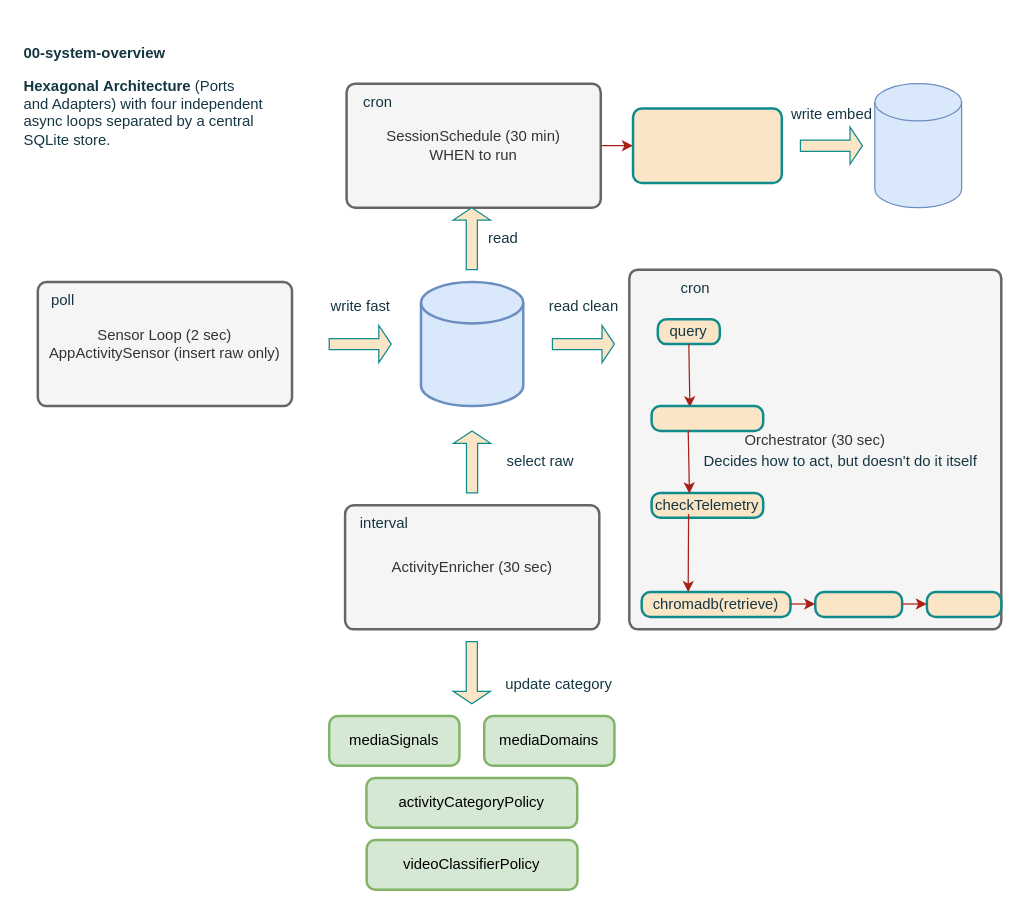
Some shapes in this 1023 by 911 pixel diagram are drawn without their labels. Each missing label, with the centre of its shape:
buildPrompt: (x=858, y=604)
ChromaDB: (x=918, y=145)
LangGraph: (x=707, y=418)
LLM: (x=963, y=604)
SessionLogger WHAT to do: (x=706, y=145)
SQLite: (x=471, y=343)
